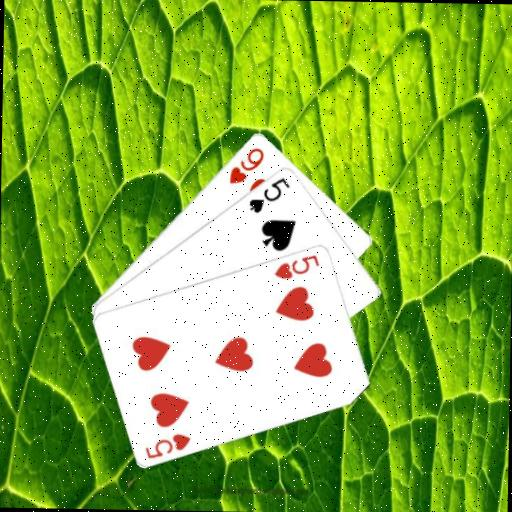5H: (271, 250, 322, 281), (142, 430, 193, 461)
5S: (246, 173, 292, 215)
9H: (226, 143, 266, 186)
